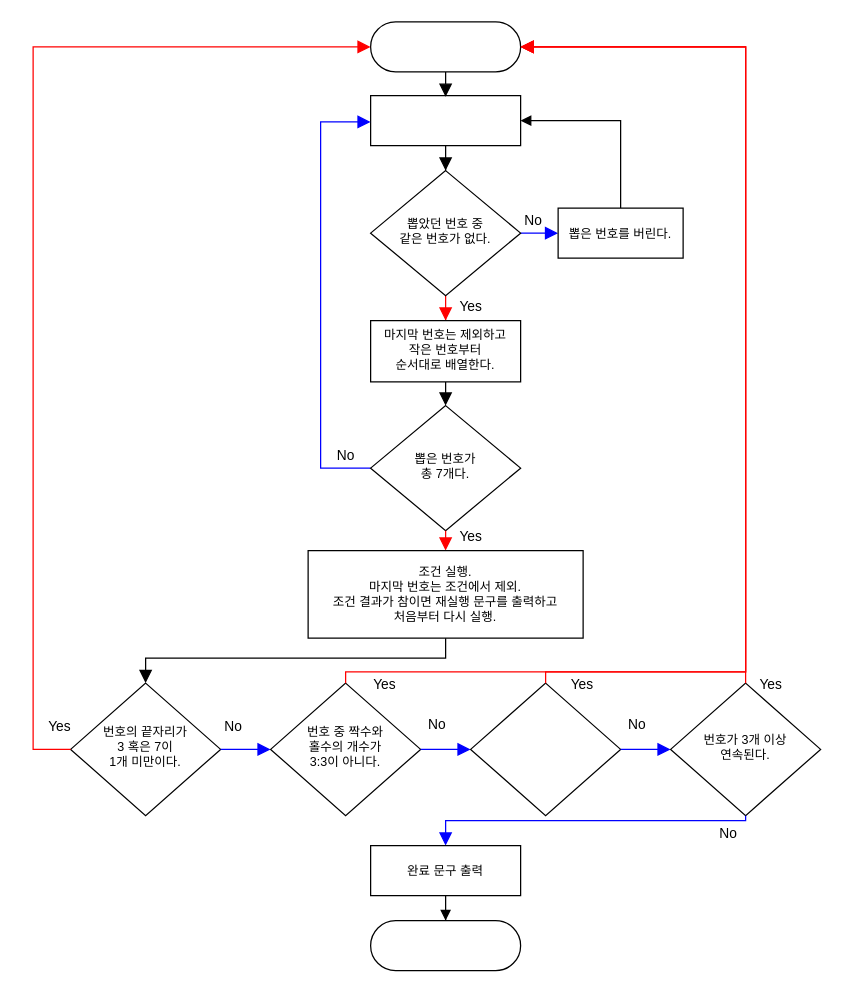
Some shapes in this 843 by 993 pixel diagram are drawn without their labels. Each missing label, with the centre of its shape:
"번호를 뽑는다." belongs at [445,120].
"번호의 합이 100미만이거나 172 초과이다." belongs at [545,749].
"프로그램 시작." belongs at [445,46].
"프로그램 종료." belongs at [445,945].
